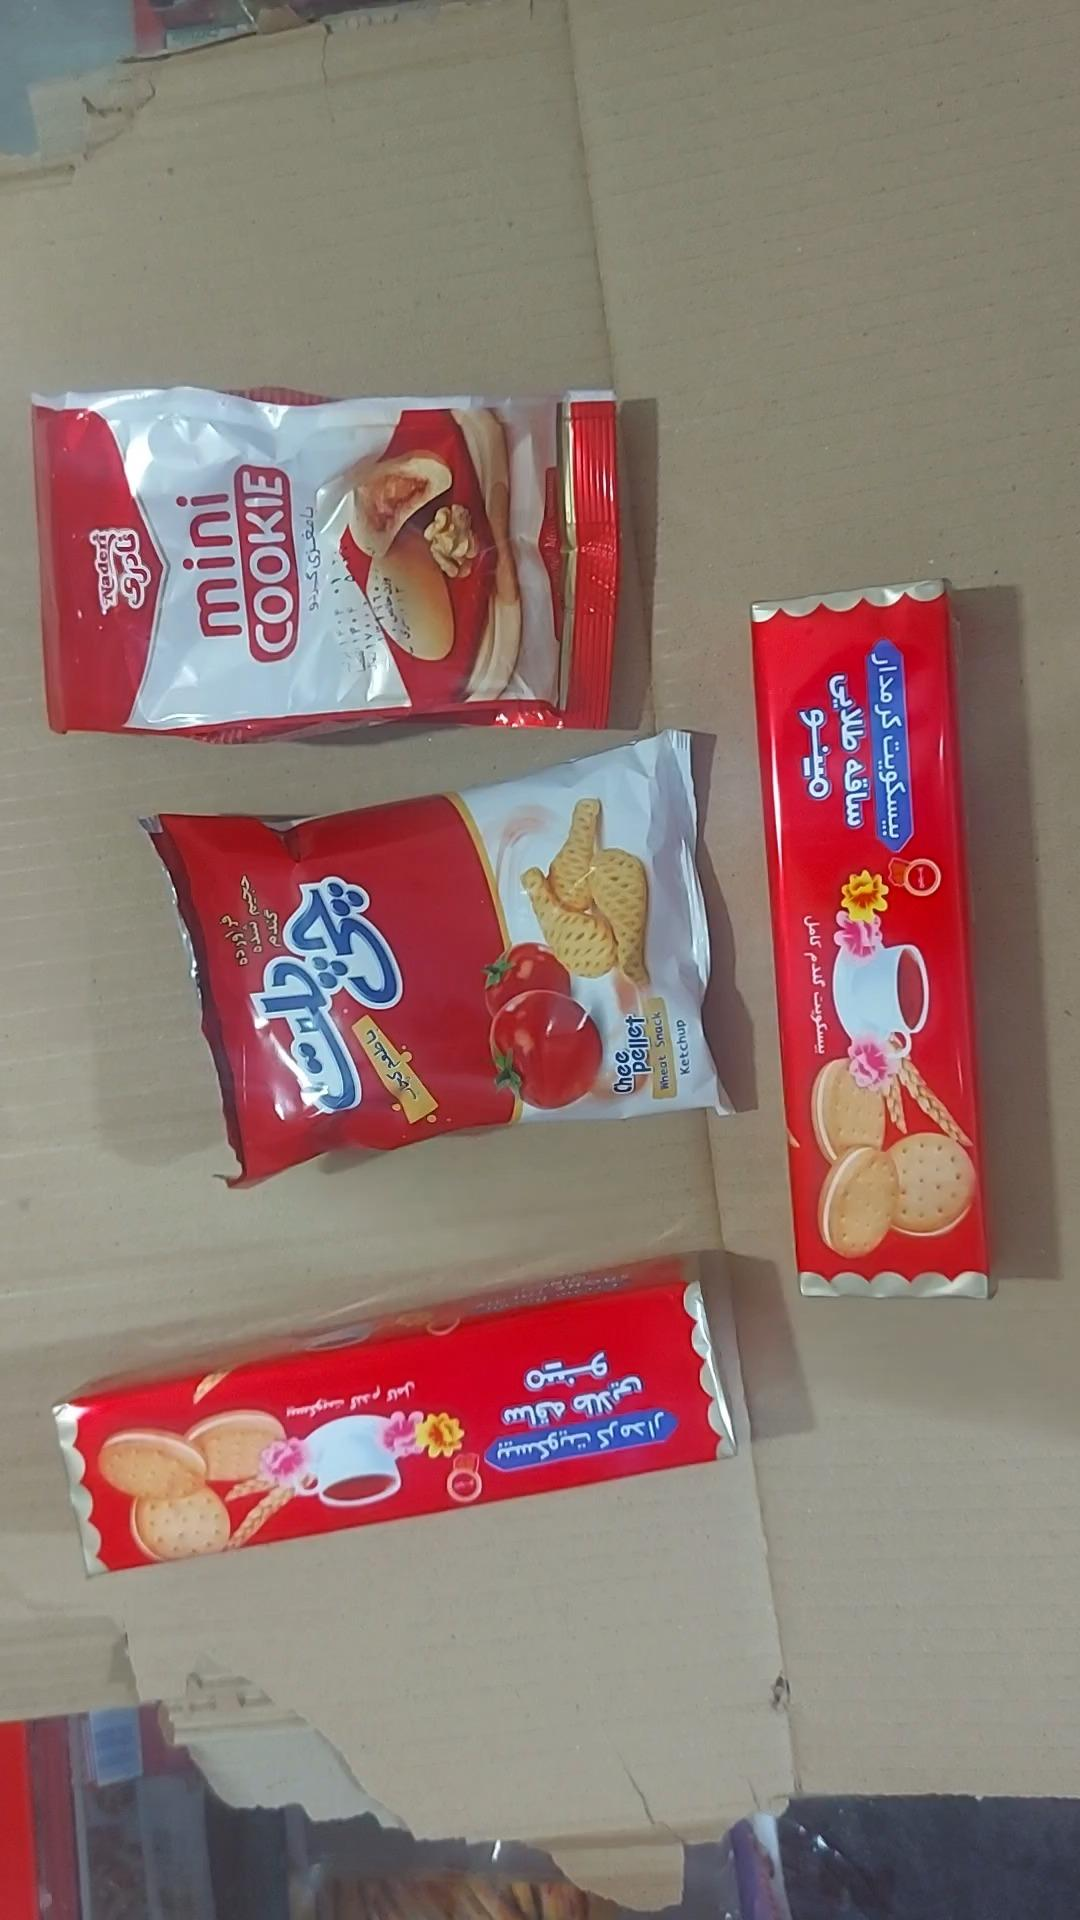Chee pellet ketchup: (140, 732, 735, 1191)
Minoo cream biscuit: (58, 1253, 736, 1578), (750, 579, 994, 1303)
Naderi mini cookie: (30, 386, 622, 745)
